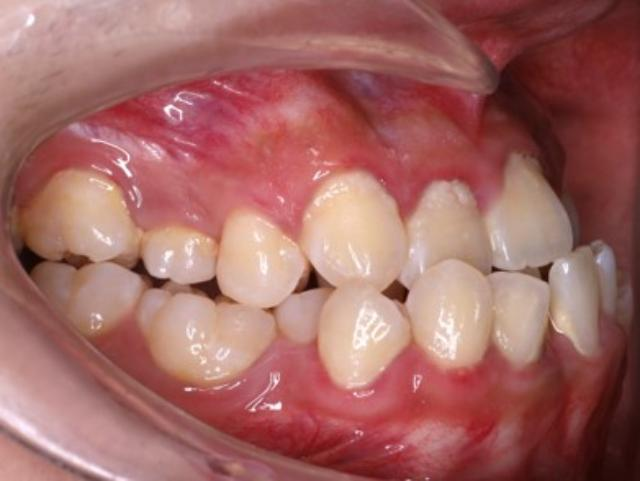canine class III 1/2: (303, 169, 495, 403)
molar class III full class: (19, 164, 275, 390)
